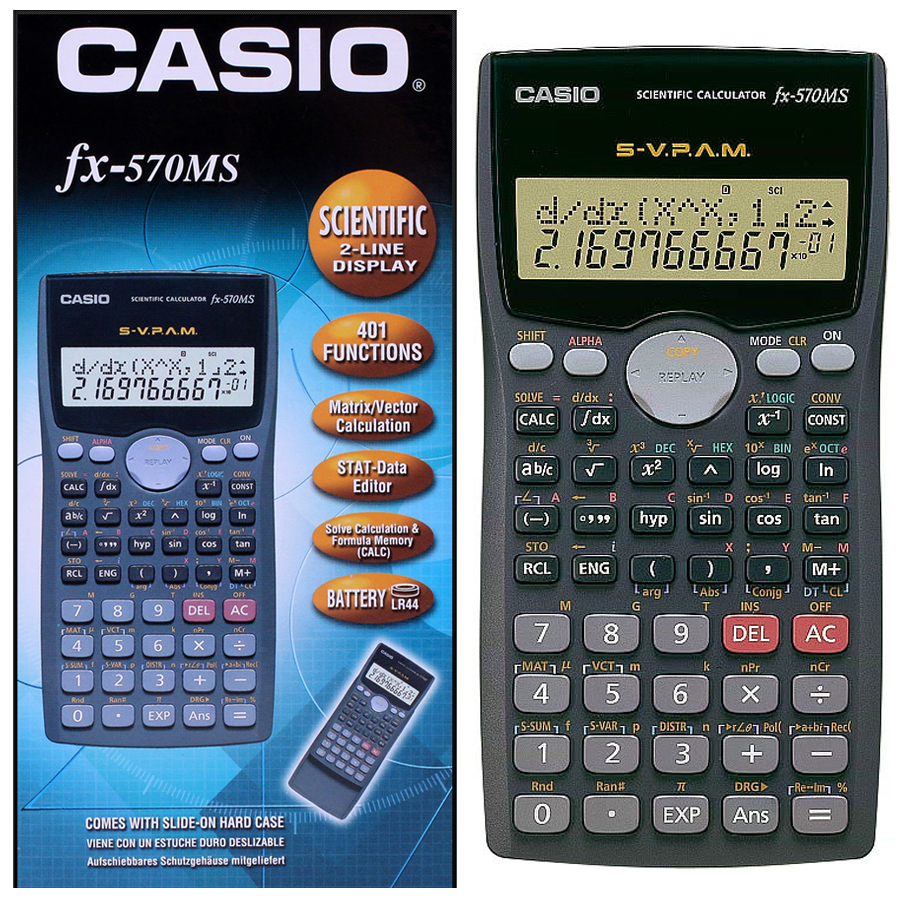Calculator: (470, 44, 900, 879), (31, 265, 278, 753), (308, 636, 438, 795)
